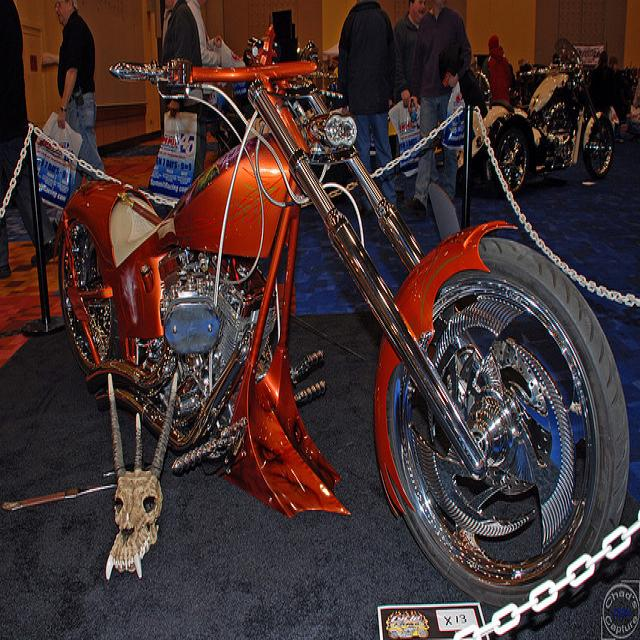motor: (50, 20, 631, 518), (482, 38, 615, 195)
